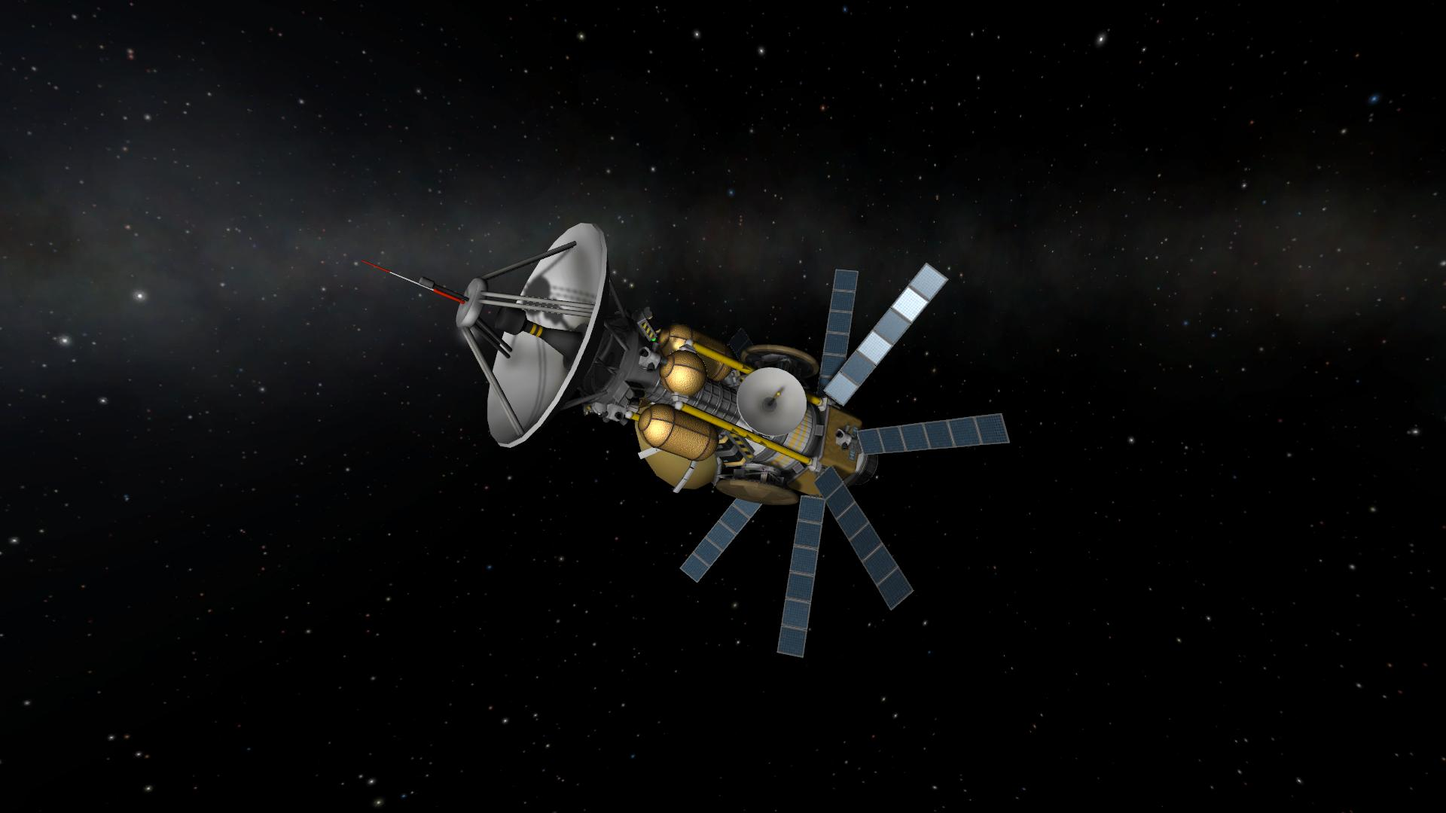antenna: (357, 217, 615, 449), (633, 401, 725, 494), (734, 365, 810, 439), (738, 341, 822, 379), (711, 475, 804, 507)
solar: (822, 260, 950, 409), (813, 464, 916, 612), (776, 495, 826, 660), (678, 497, 764, 585), (856, 412, 1013, 458), (816, 268, 861, 398), (728, 326, 755, 363)
thruster: (650, 340, 662, 355), (636, 346, 650, 358), (656, 355, 670, 367), (618, 415, 630, 427), (849, 437, 861, 449), (646, 361, 657, 374), (840, 440, 851, 452), (615, 411, 626, 422), (601, 413, 611, 425), (843, 422, 853, 434), (834, 428, 844, 440)
